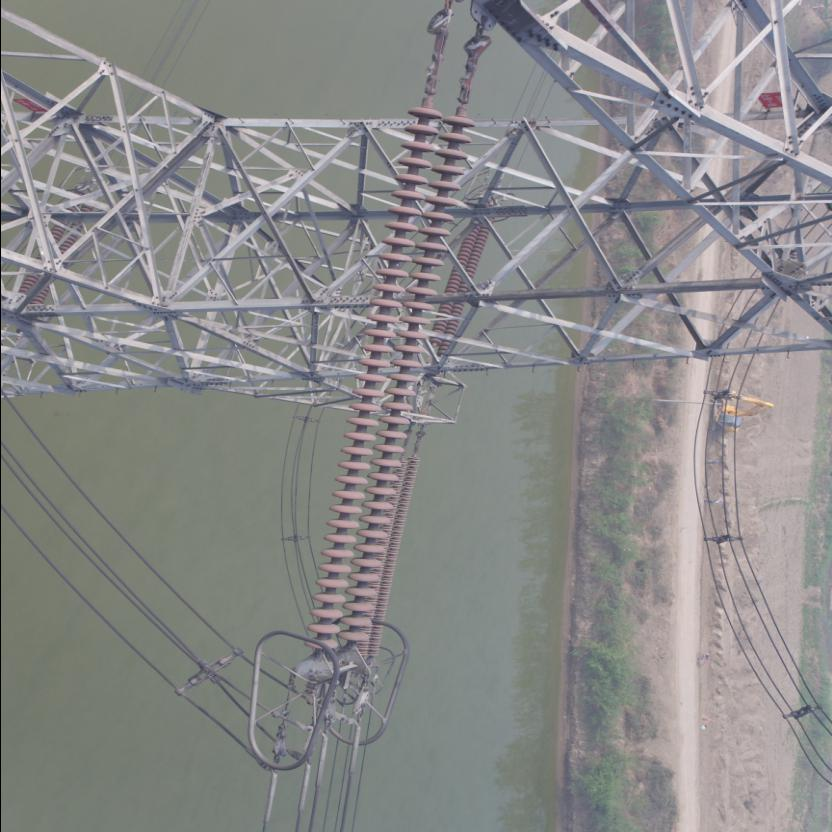insulator: (304, 67, 480, 663)
